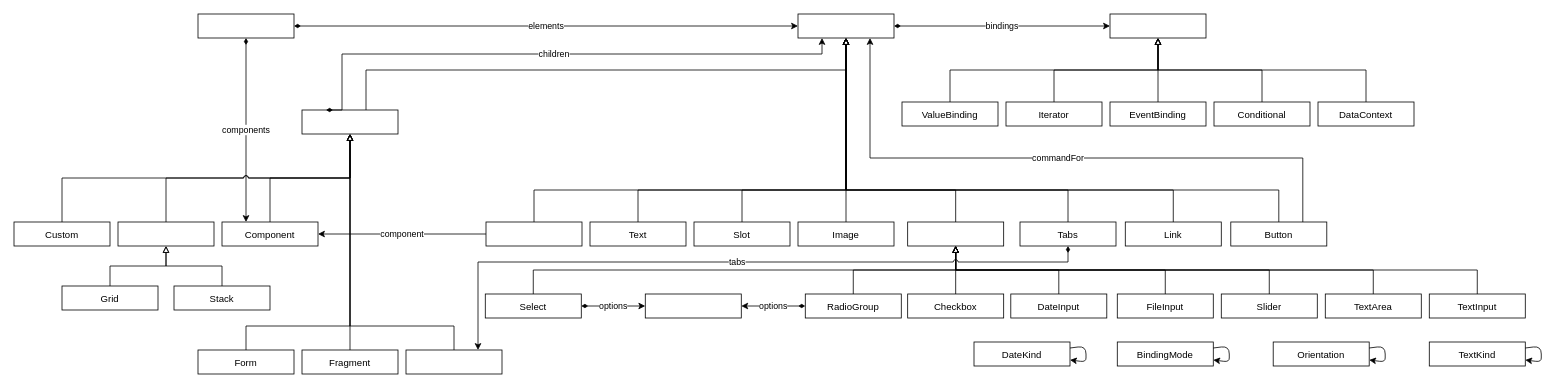
Some shapes in this 1562 by 388 pixel diagram are drawn without their labels. The shapes that lost their labels are listed below. From the top down, each one's box as (x1, y1, x2, y2) in pixels, then its label:
(197, 13, 294, 38): UiDomain
(797, 13, 894, 38): Element
(1109, 13, 1206, 38): Binding
(301, 109, 398, 134): Container
(117, 221, 214, 246): Layout
(485, 221, 582, 246): Include
(907, 221, 1004, 246): Input
(644, 293, 741, 318): Option
(405, 349, 502, 374): Tab
